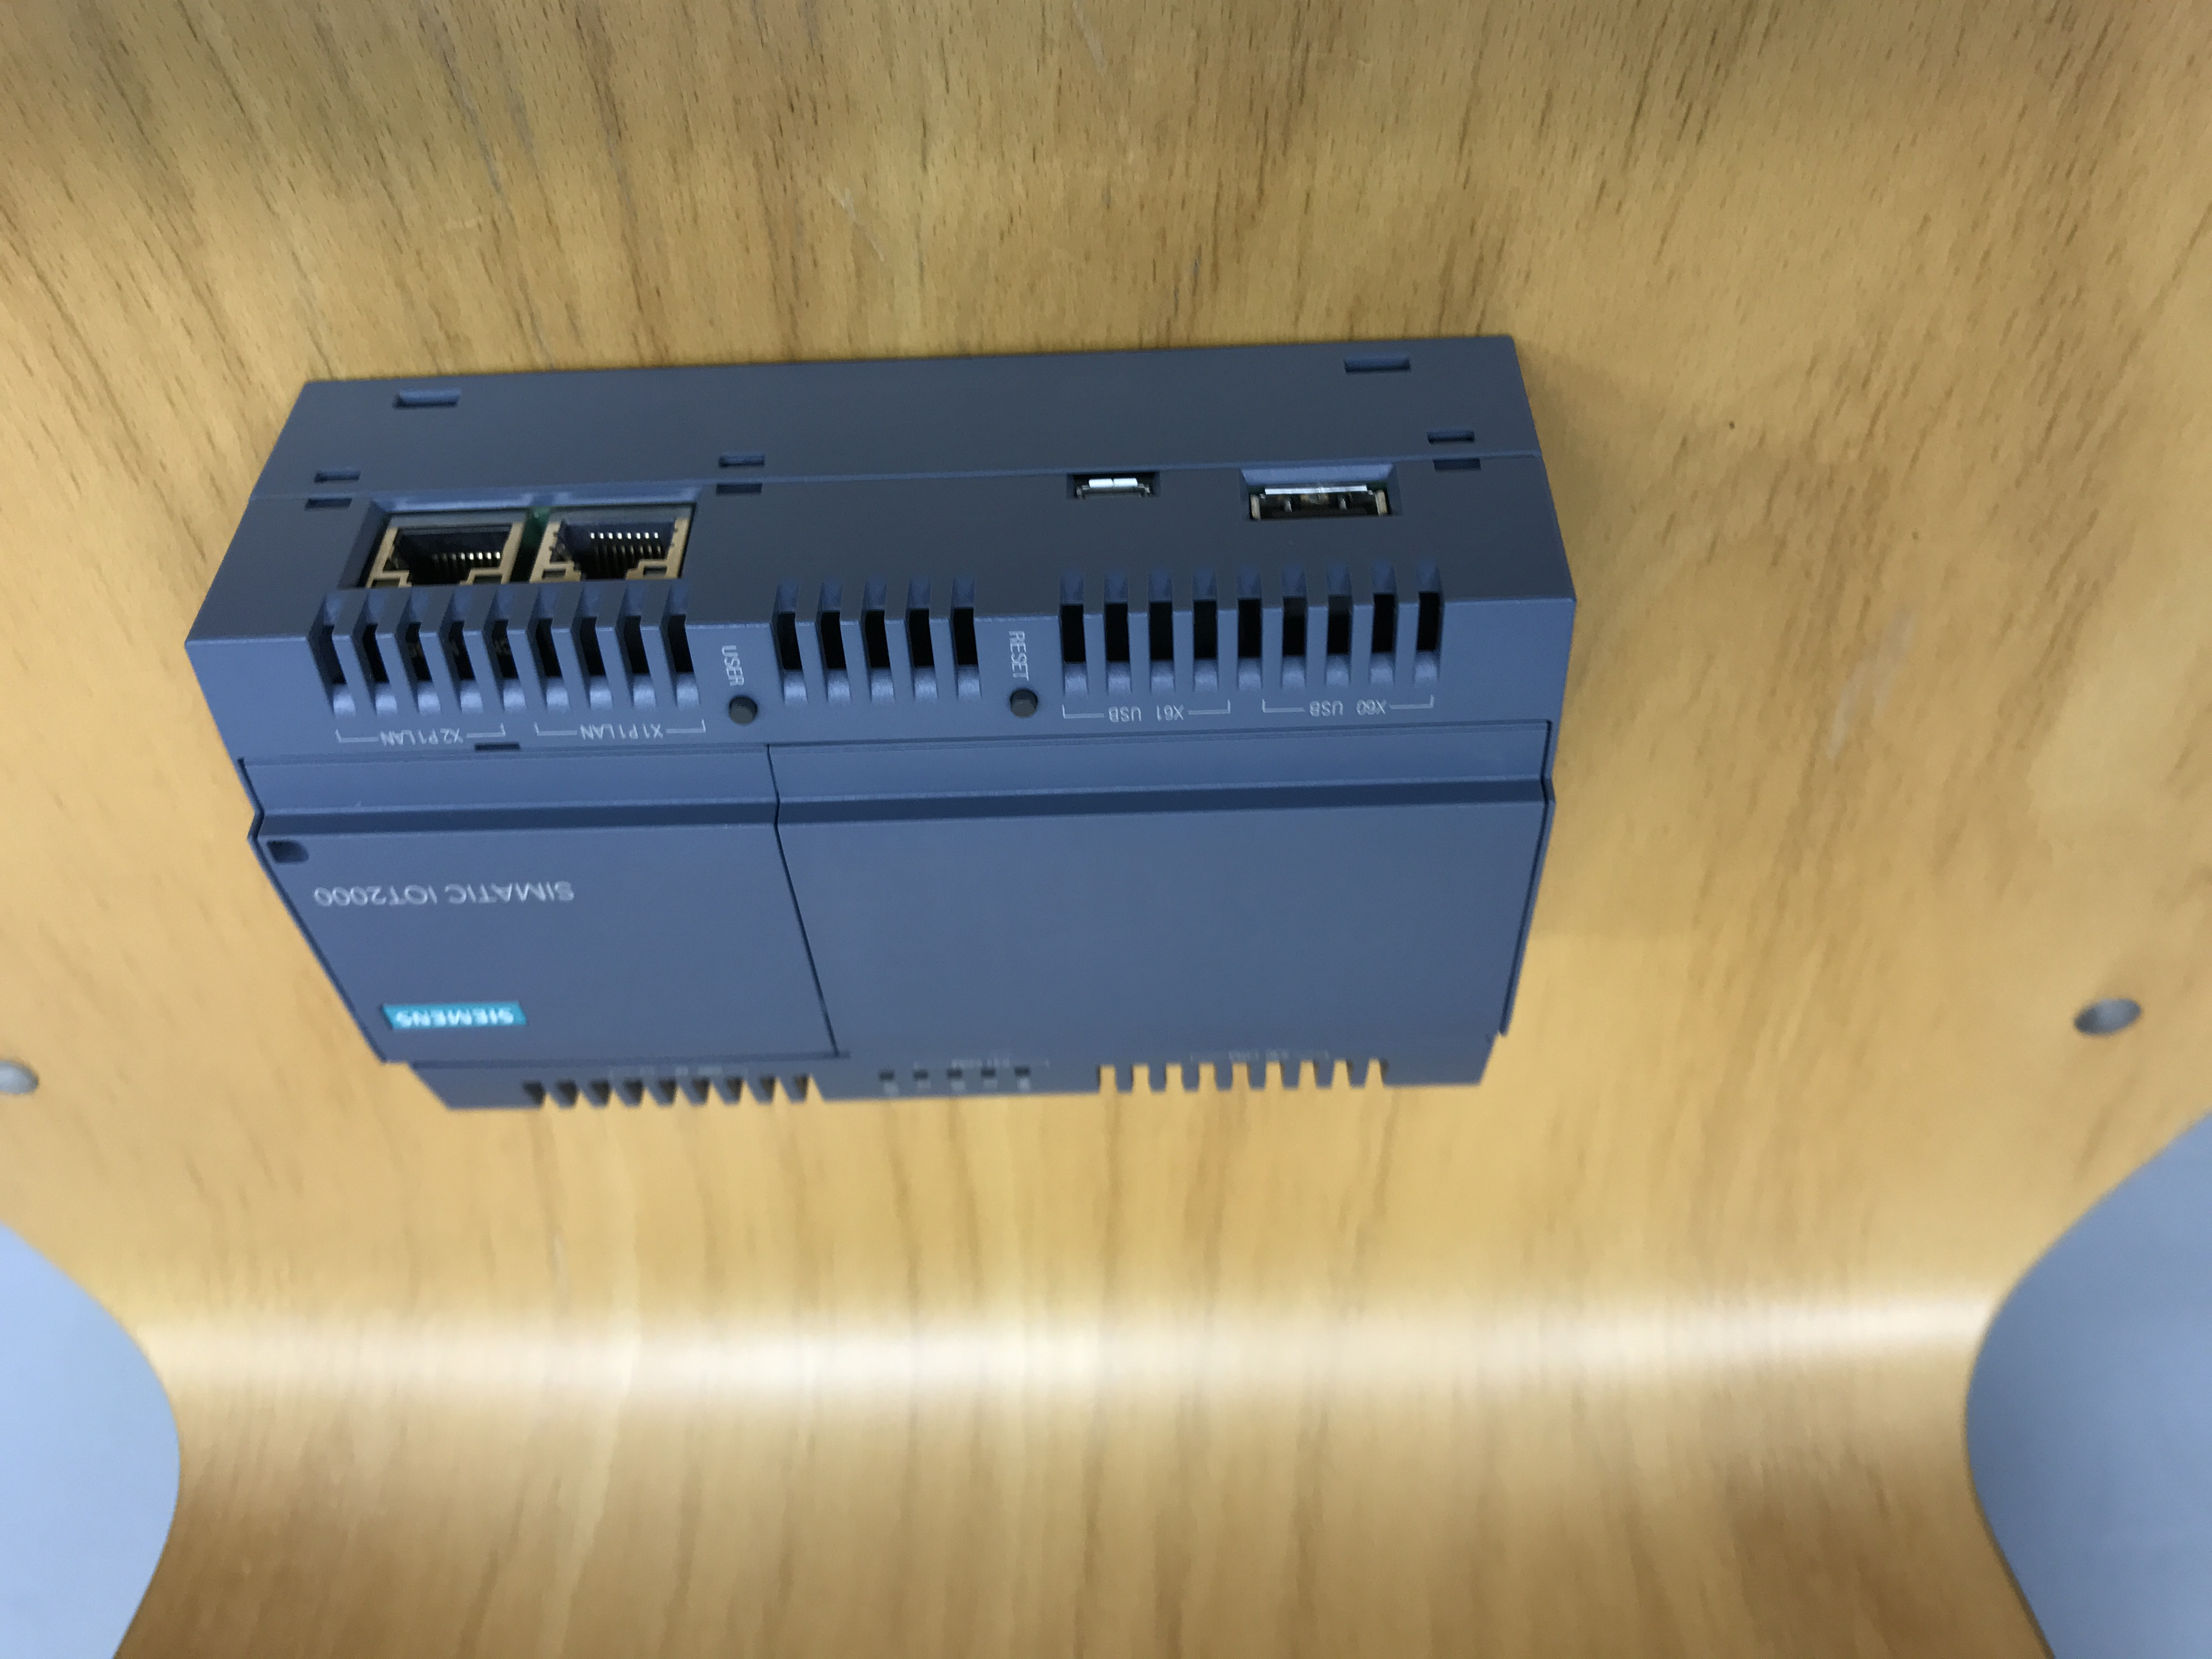device: (183, 335, 1580, 1112)
